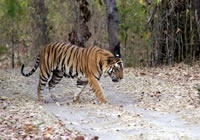tigre: (21, 41, 123, 103)
